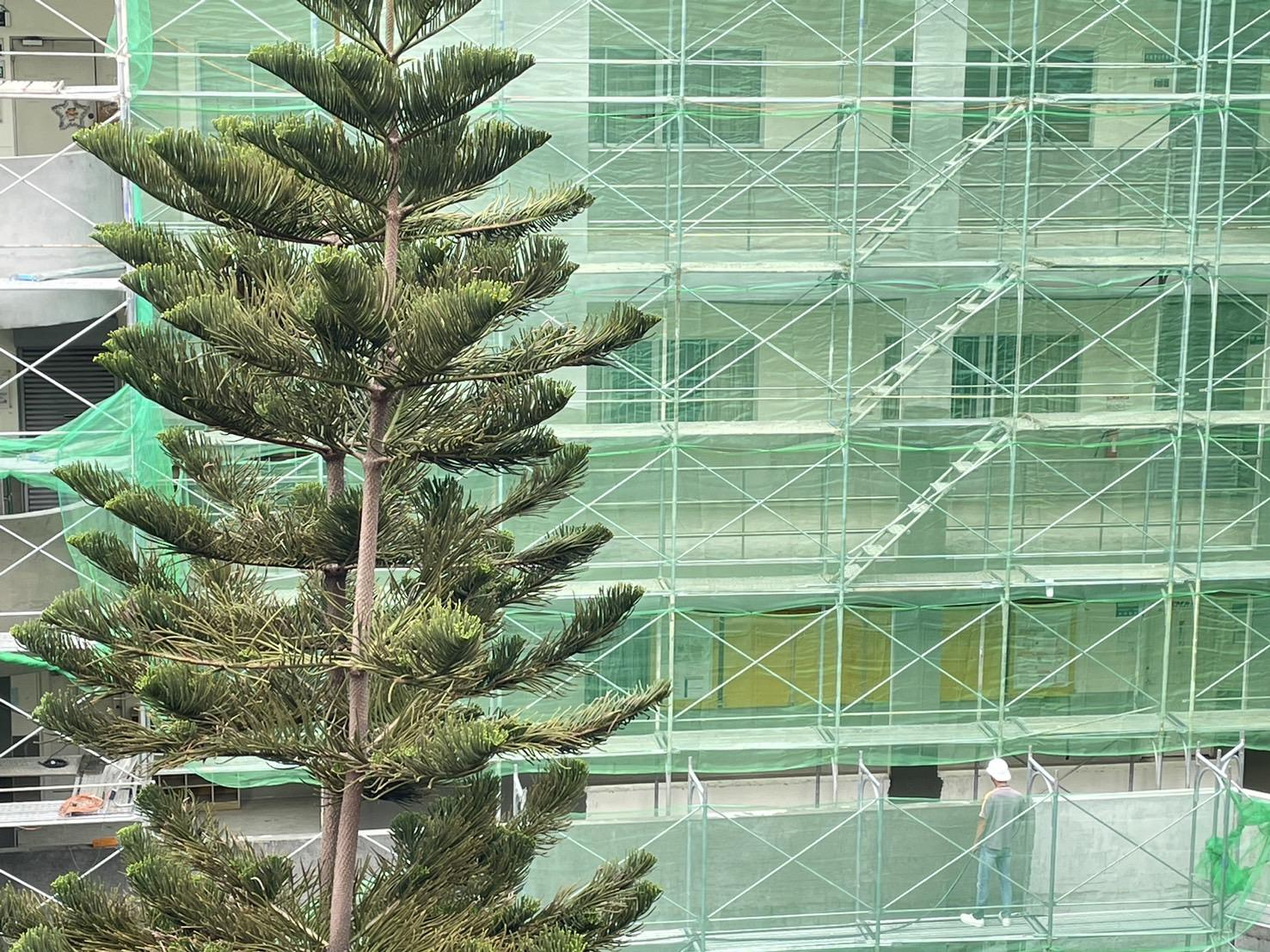Helmet: (986, 758, 1011, 783)
NoVest: (989, 787, 1021, 849)
